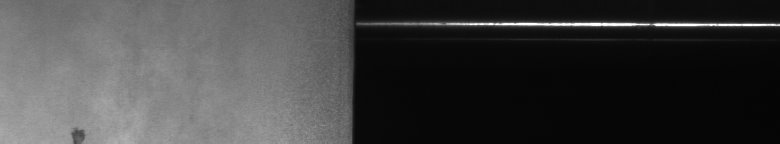fi: (65, 120, 89, 136)
